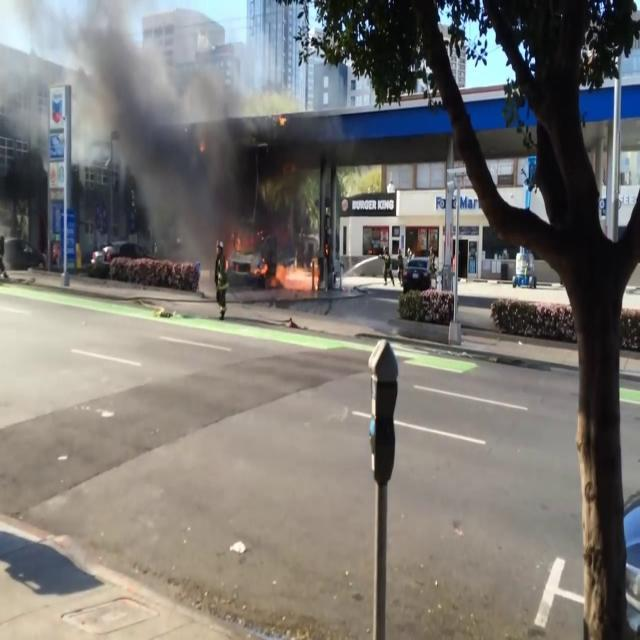Fire: (226, 244, 320, 291)
Smoke: (0, 1, 278, 260)
